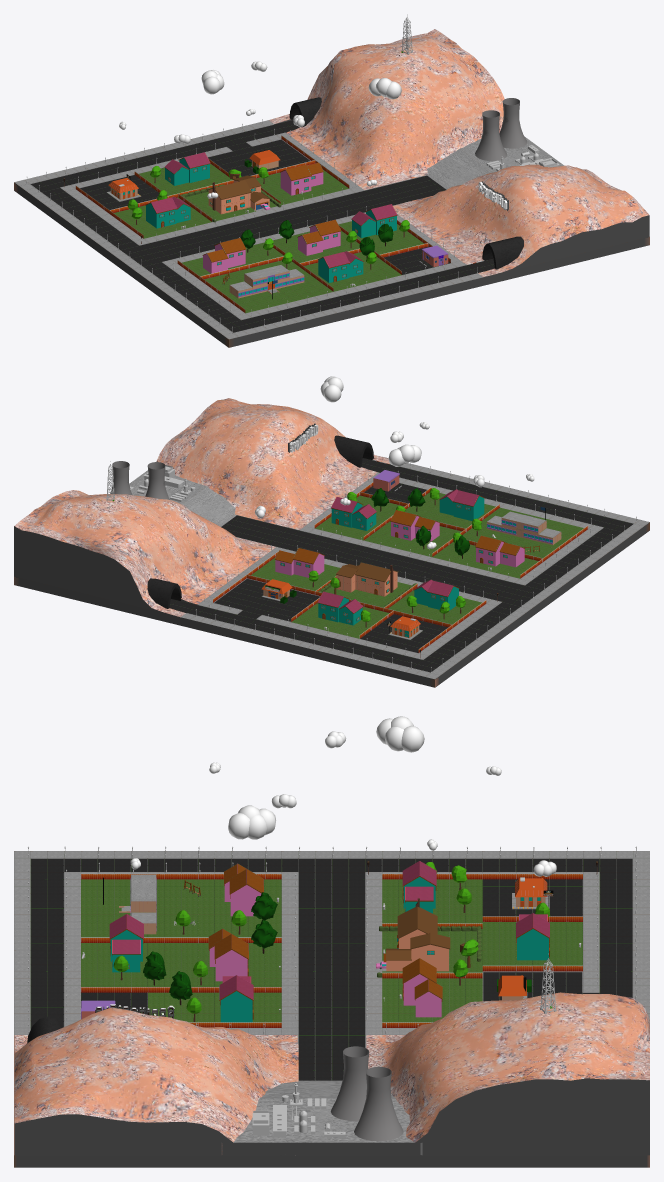
The model's file is Mapa Simpson.obj.
The picture shows the model from 3 angles, top to bottom: view 1: azimuth 30°, elevation 25°; view 2: azimuth 150°, elevation 25°; view 3: azimuth 270°, elevation 25°; orthographic projection. The views are drawn at different scales.
Parts seen in each view (by area): view 1: pPlane936, pPlane932, calle1 pPlane204 pPlane203 pPlane155 pPlane154 pPlane153 pPlane1, calle pPlane204 pPlane203 pPlane155 pPlane154 pPlane153 pPlane15, calle pPlane643 pPlane644 pPlane645 pPlane646 pPlane647 pPlane64, calle pPlane200 pPlane199 pPlane198 pPlane197 pPlane196 pPlane19, pPlane990, calle1 pPlane200 pPlane199 pPlane198 pPlane197 pPlane196 pPlane1, calle1 pPlane643 pPlane644 pPlane645 pPlane648 pPlane649 pPlane6, MODULO_CASA1 MODULO_CASA3 MODULO_CASA4 MODULO_CASA6 group1 group, pCube243, pPlane351 barrera2 barrera4 barrera5 barrera6 barrera7 barrera8  (+14 smaller); view 2: pPlane936, pPlane932, calle1 pPlane204 pPlane203 pPlane155 pPlane154 pPlane153 pPlane1, calle pPlane204 pPlane203 pPlane155 pPlane154 pPlane153 pPlane15, calle pPlane643 pPlane644 pPlane645 pPlane646 pPlane647 pPlane64, calle pPlane200 pPlane199 pPlane198 pPlane197 pPlane196 pPlane19, pPlane990, calle1 pPlane200 pPlane199 pPlane198 pPlane197 pPlane196 pPlane1, calle1 pPlane643 pPlane644 pPlane645 pPlane648 pPlane649 pPlane6, MODULO_CASA1 MODULO_CASA3 MODULO_CASA4 MODULO_CASA6 group1 group, pPlane351 barrera2 barrera4 barrera5 barrera6 barrera7 barrera8 , pCube243 (+15 smaller); view 3: pPlane936, pPlane932, calle1 pPlane204 pPlane203 pPlane155 pPlane154 pPlane153 pPlane1, calle pPlane204 pPlane203 pPlane155 pPlane154 pPlane153 pPlane15, calle pPlane643 pPlane644 pPlane645 pPlane646 pPlane647 pPlane64, calle pPlane200 pPlane199 pPlane198 pPlane197 pPlane196 pPlane19, calle1 pPlane200 pPlane199 pPlane198 pPlane197 pPlane196 pPlane1, pPlane990, pCube243, pPlane351 barrera2 barrera4 barrera5 barrera6 barrera7 barrera8 , calle1 pPlane643 pPlane644 pPlane645 pPlane648 pPlane649 pPlane6, CENTRAL_NUCLEAR_PROYECYO_ESCENARIO_ACABADA_ENVIAR___:pCylinder1  (+17 smaller).
Boxes of the visible parts, x1=… form: pPlane936: x1=269, y1=29, x2=504, y2=189; pPlane932: x1=393, y1=164, x2=649, y2=276; calle1 pPlane204 pPlane203 pPlane155 pPlane154 pPlane153 pPlane1: x1=31, y1=120, x2=437, y2=258; calle pPlane204 pPlane203 pPlane155 pPlane154 pPlane153 pPlane15: x1=132, y1=184, x2=494, y2=332; calle pPlane643 pPlane644 pPlane645 pPlane646 pPlane647 pPlane64: x1=14, y1=120, x2=482, y2=339; calle pPlane200 pPlane199 pPlane198 pPlane197 pPlane196 pPlane19: x1=182, y1=221, x2=423, y2=313; pPlane990: x1=14, y1=182, x2=649, y2=347; calle1 pPlane200 pPlane199 pPlane198 pPlane197 pPlane196 pPlane1: x1=114, y1=164, x2=348, y2=238; calle1 pPlane643 pPlane644 pPlane645 pPlane648 pPlane649 pPlane6: x1=61, y1=132, x2=363, y2=244; MODULO_CASA1 MODULO_CASA3 MODULO_CASA4 MODULO_CASA6 group1 group: x1=146, y1=158, x2=396, y2=282; pCube243: x1=427, y1=136, x2=564, y2=189; pPlane351 barrera2 barrera4 barrera5 barrera6 barrera7 barrera8 : x1=75, y1=135, x2=450, y2=312; pPlane936: x1=14, y1=490, x2=275, y2=617; pPlane932: x1=156, y1=398, x2=389, y2=529; calle1 pPlane204 pPlane203 pPlane155 pPlane154 pPlane153 pPlane1: x1=169, y1=523, x2=531, y2=672; calle pPlane204 pPlane203 pPlane155 pPlane154 pPlane153 pPlane15: x1=226, y1=458, x2=632, y2=598; calle pPlane643 pPlane644 pPlane645 pPlane646 pPlane647 pPlane64: x1=181, y1=463, x2=649, y2=679; calle pPlane200 pPlane199 pPlane198 pPlane197 pPlane196 pPlane19: x1=315, y1=492, x2=583, y2=578; pPlane990: x1=14, y1=457, x2=649, y2=687; calle1 pPlane200 pPlane199 pPlane198 pPlane197 pPlane196 pPlane1: x1=251, y1=557, x2=481, y2=638; calle1 pPlane643 pPlane644 pPlane645 pPlane648 pPlane649 pPlane6: x1=198, y1=547, x2=500, y2=659; MODULO_CASA1 MODULO_CASA3 MODULO_CASA4 MODULO_CASA6 group1 group: x1=318, y1=496, x2=484, y2=625; pPlane351 barrera2 barrera4 barrera5 barrera6 barrera7 barrera8 : x1=213, y1=482, x2=588, y2=652; pCube243: x1=129, y1=470, x2=236, y2=526; pPlane936: x1=366, y1=992, x2=649, y2=1155; pPlane932: x1=14, y1=1007, x2=298, y2=1155; calle1 pPlane204 pPlane203 pPlane155 pPlane154 pPlane153 pPlane1: x1=332, y1=859, x2=632, y2=1080; calle pPlane204 pPlane203 pPlane155 pPlane154 pPlane153 pPlane15: x1=30, y1=859, x2=331, y2=1080; calle pPlane643 pPlane644 pPlane645 pPlane646 pPlane647 pPlane64: x1=14, y1=851, x2=649, y2=1034; calle pPlane200 pPlane199 pPlane198 pPlane197 pPlane196 pPlane19: x1=81, y1=879, x2=281, y2=1022; calle1 pPlane200 pPlane199 pPlane198 pPlane197 pPlane196 pPlane1: x1=382, y1=879, x2=582, y2=1022; pPlane990: x1=14, y1=1035, x2=649, y2=1167; pCube243: x1=221, y1=1080, x2=422, y2=1155; pPlane351 barrera2 barrera4 barrera5 barrera6 barrera7 barrera8 : x1=81, y1=873, x2=582, y2=1027; calle1 pPlane643 pPlane644 pPlane645 pPlane648 pPlane649 pPlane6: x1=366, y1=872, x2=598, y2=1034; CENTRAL_NUCLEAR_PROYECYO_ESCENARIO_ACABADA_ENVIAR___:pCylinder1 : x1=330, y1=1046, x2=403, y2=1141.
Bounding box in the file's own units: 172 × 59.92 × 152.
